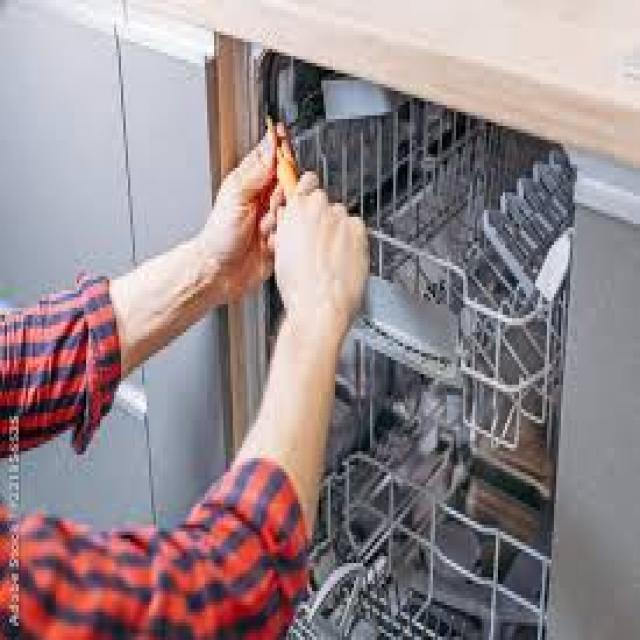screwdriver: (260, 98, 318, 252)
